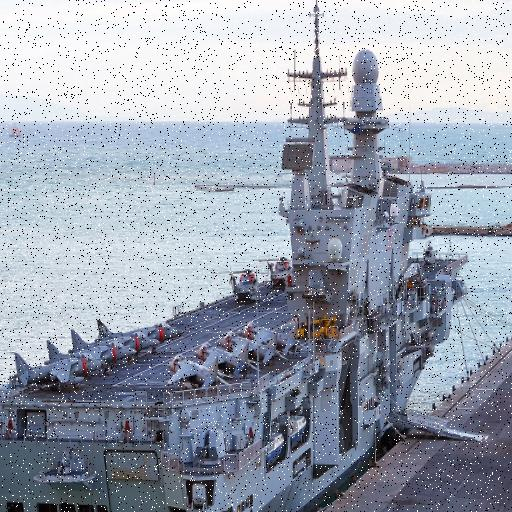Portanaves: (1, 1, 474, 512)
